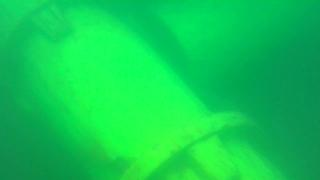pipe: (1, 1, 291, 179), (130, 1, 320, 98)
